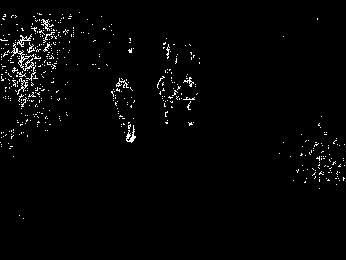person: (111, 77, 138, 144), (158, 69, 177, 127)
